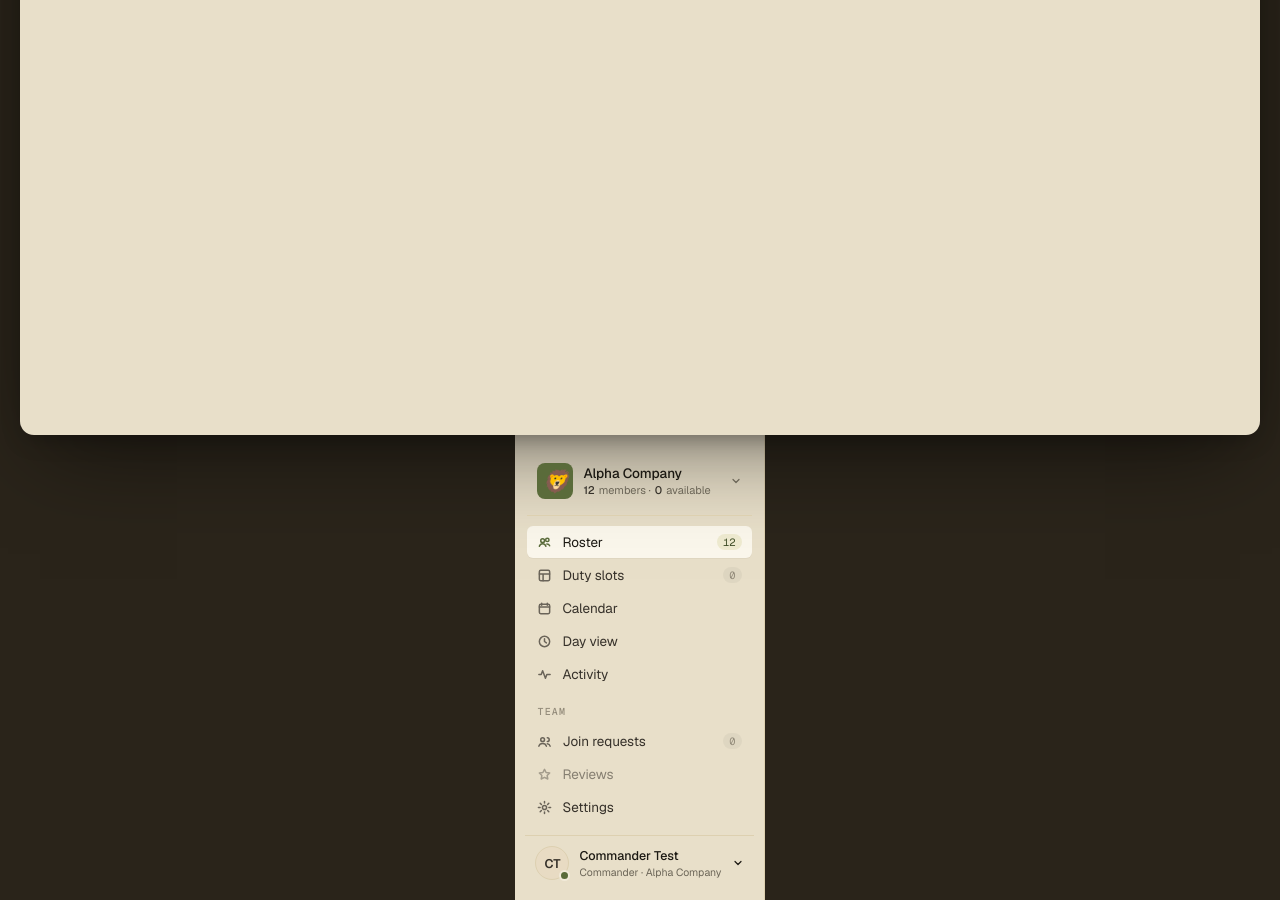
Test case: Sidebar › renders a team-switcher button and lists teams when multiple teams exist
(page scrolled)
Click the button "🦁 Alpha Company 12 members · 0 available" at (640, 481), box [538,461,742,501]
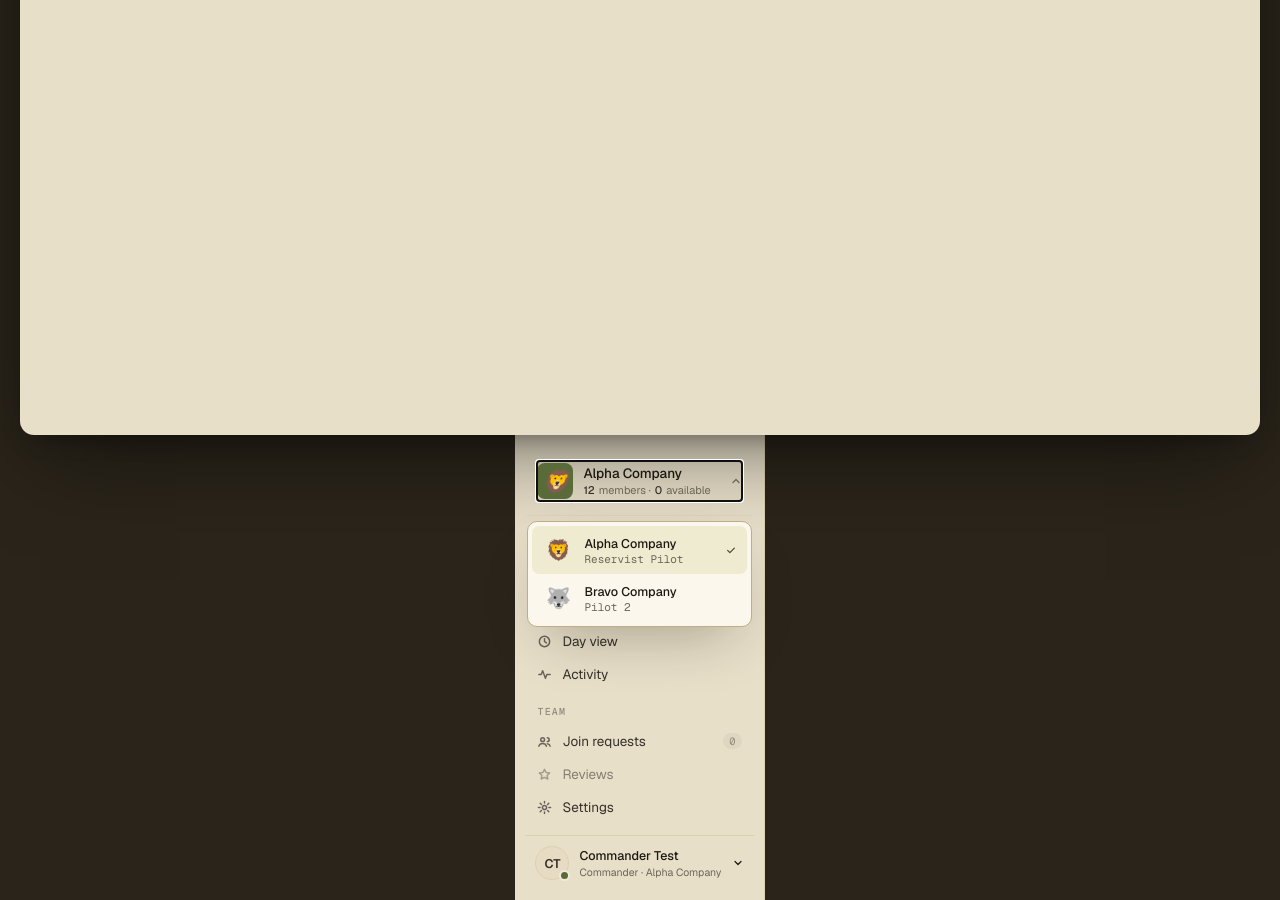
expect the list named "Select team" is shown: met, box [528,521,752,627]
expect the number of options is 2: met, box [532,526,746,574]; [532,574,746,622]
expect the 2nd text "Alpha Company" is shown: met, box [584,534,677,552]
